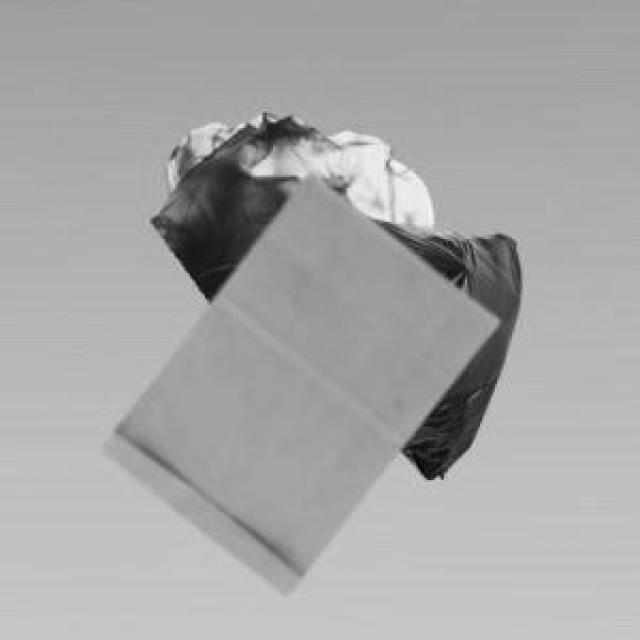miscellaneous trash: (368, 216, 516, 476)
paper: (98, 171, 495, 589)
